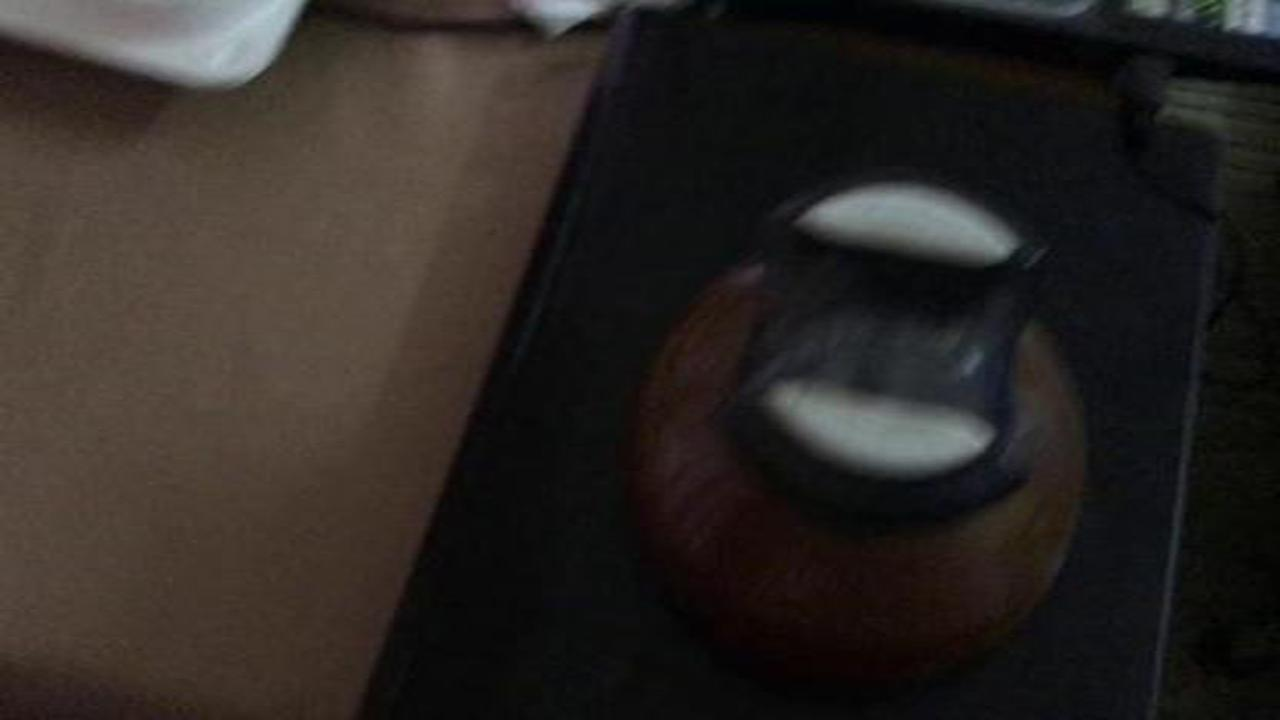insulator_pin: (594, 158, 1127, 688)
